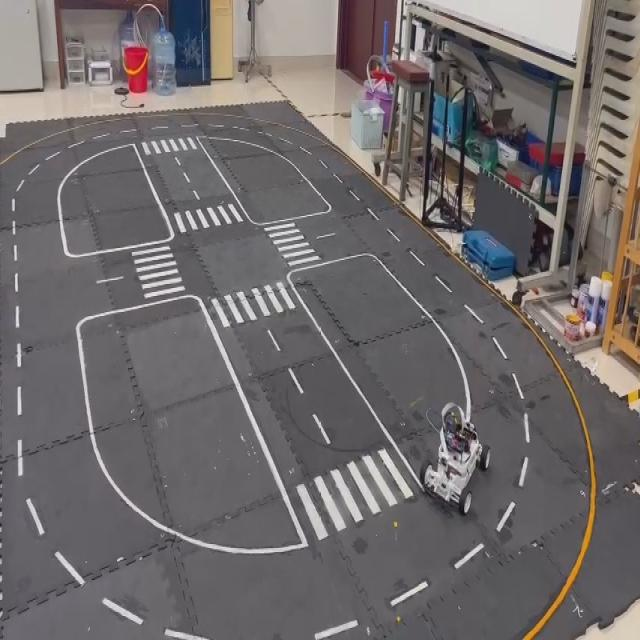SiCo-CAR: (419, 400, 491, 516)
